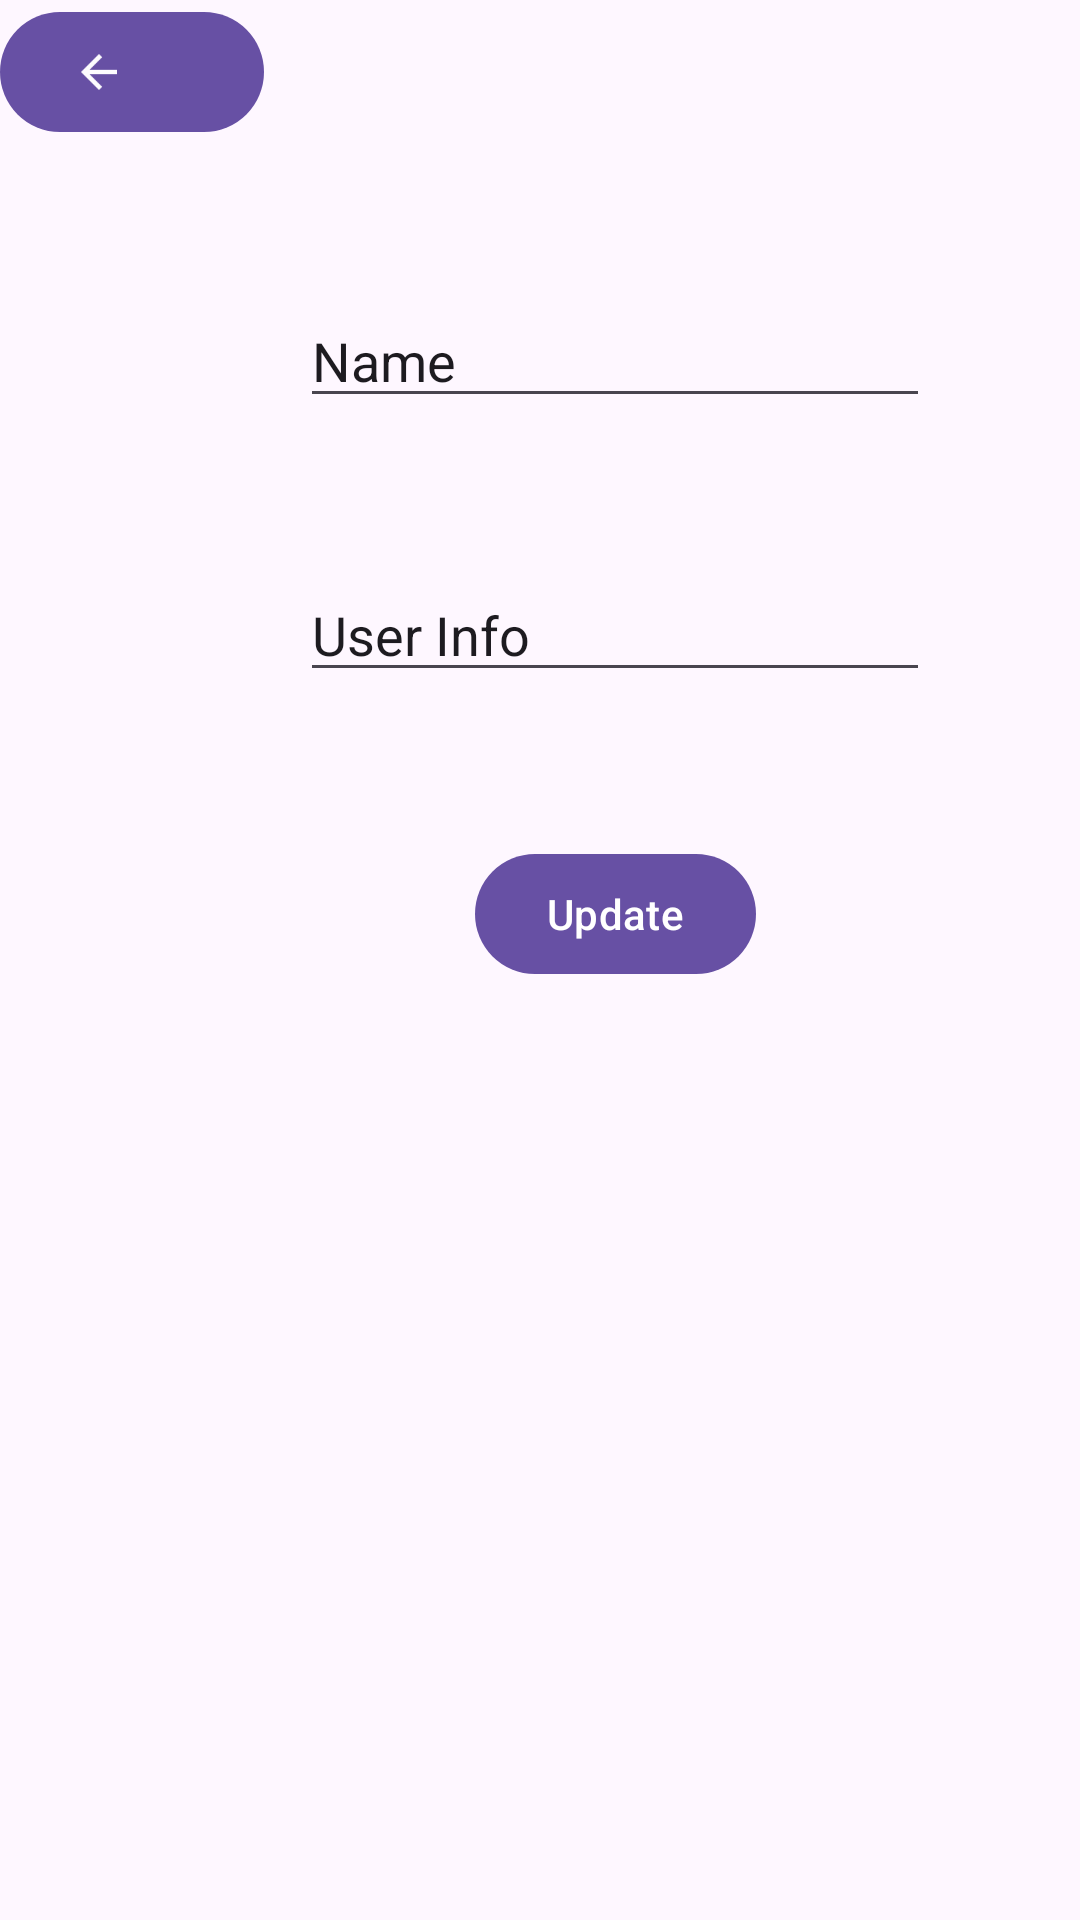

Icons on this 1080px×1920px Android screen, each with its box as (x1, y1, x2, y2):
back: (0, 12, 264, 132)
